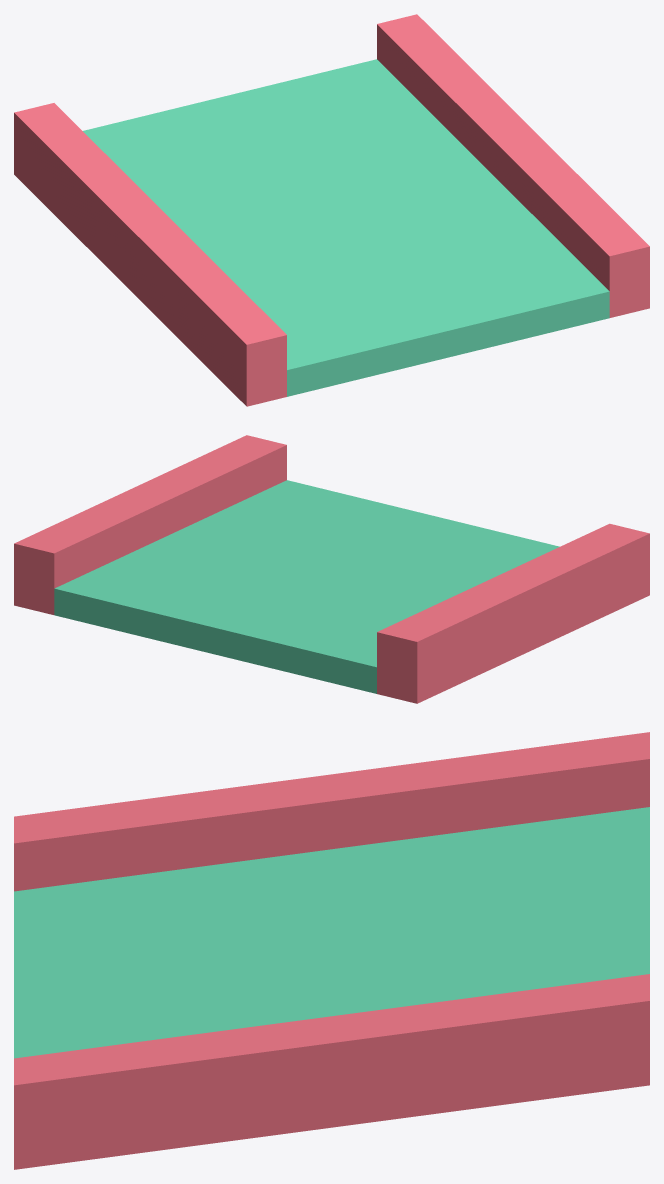
Rendered from rampA.glb.
3 views of the same model, one above another, from view 1: azimuth 30°, elevation 25°; view 2: azimuth 150°, elevation 25°; view 3: azimuth 270°, elevation 25° (orthographic). The views are drawn at different scales.
Visible parts, largest first — view 1: rampA; view 2: rampA; view 3: rampA.
Part boxes in pixels (<box>): rampA: <box>14,14,649,406</box>; rampA: <box>14,435,649,703</box>; rampA: <box>14,732,649,1169</box>.
Bounding box in the file's own units: 0.9999 × 0.2933 × 0.9999.
